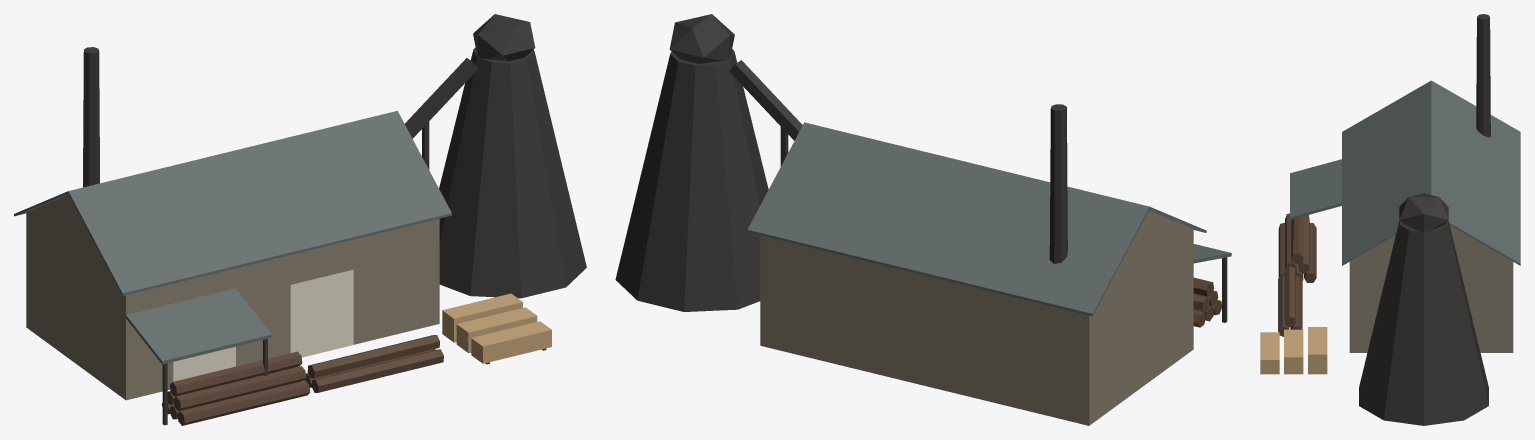
The model's file is sawmill.glb.
3 renders of one model, left to right at view 1: azimuth 30°, elevation 25°; view 2: azimuth 150°, elevation 25°; view 3: azimuth 270°, elevation 25°, orthographic. The views are drawn at different scales.
Parts seen in each view (by area): view 1: sawmill_body; view 2: sawmill_body; view 3: sawmill_body.
Boxes of the visible parts, x1=… form: sawmill_body: x1=14, y1=14, x2=586, y2=425; sawmill_body: x1=615, y1=14, x2=1231, y2=425; sawmill_body: x1=1260, y1=14, x2=1520, y2=425.
Bounding box in the file's own units: 32.1 × 17 × 17.5.
